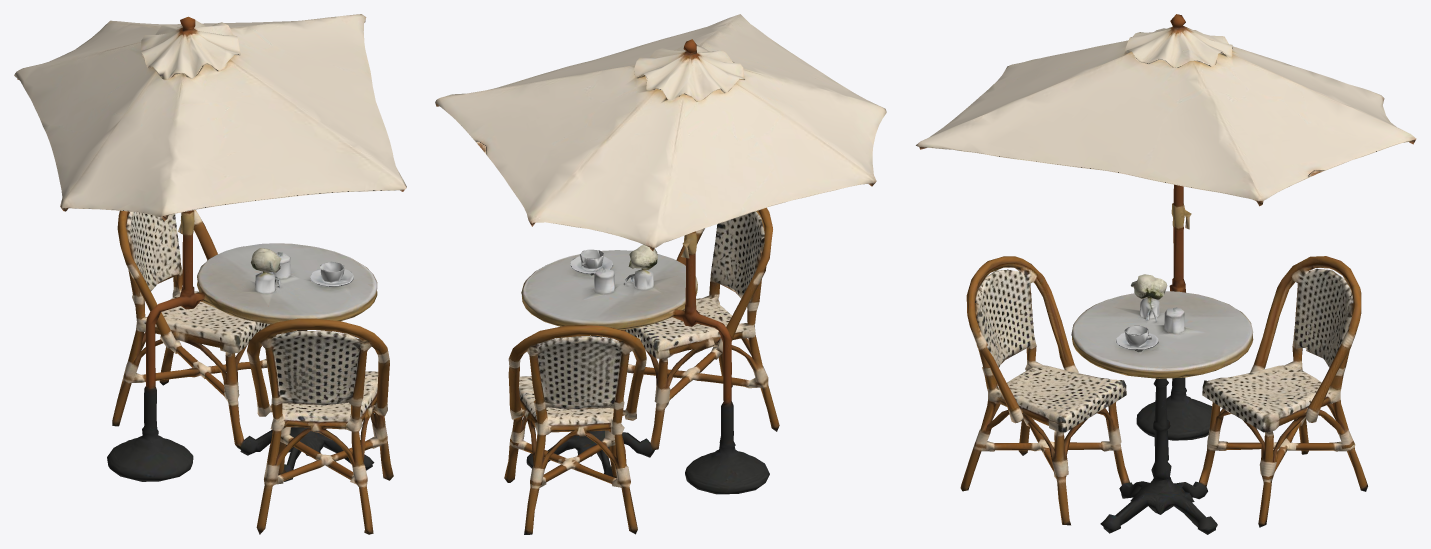
File: prop.cafe_table.glb
3 views of the same model, side by side, from view 1: azimuth 30°, elevation 25°; view 2: azimuth 150°, elevation 25°; view 3: azimuth 270°, elevation 25° (orthographic). The views are drawn at different scales.
Parts seen in each view (by area): view 1: tripo_node_dec8020b-b307-471a-8cae-a7658b3e9c28; view 2: tripo_node_dec8020b-b307-471a-8cae-a7658b3e9c28; view 3: tripo_node_dec8020b-b307-471a-8cae-a7658b3e9c28.
Part boxes in pixels (x1=…): tripo_node_dec8020b-b307-471a-8cae-a7658b3e9c28: x1=14, y1=14, x2=406, y2=534; tripo_node_dec8020b-b307-471a-8cae-a7658b3e9c28: x1=435, y1=14, x2=886, y2=534; tripo_node_dec8020b-b307-471a-8cae-a7658b3e9c28: x1=916, y1=14, x2=1416, y2=534.
Bounding box in the file's own units: 0.846 × 0.987 × 1.
1 material, 1 textured.
